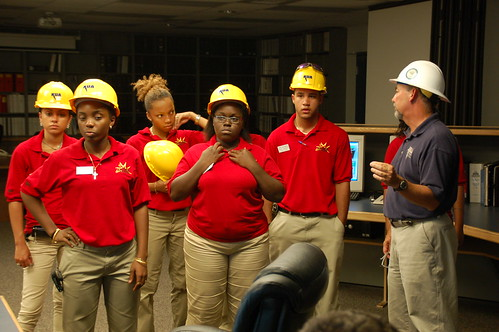hardhat: (138, 136, 190, 182)
person hardhat: (25, 80, 153, 330), (361, 57, 472, 332), (175, 83, 282, 332), (266, 62, 365, 320), (6, 79, 83, 332)
